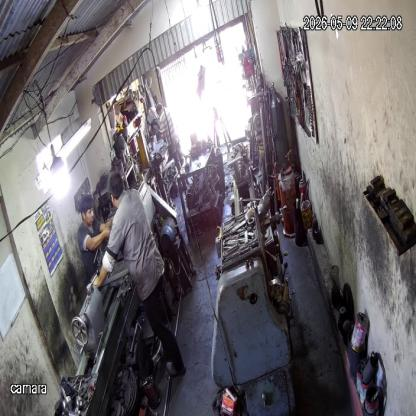sin_lentes: (84, 207, 94, 217)
